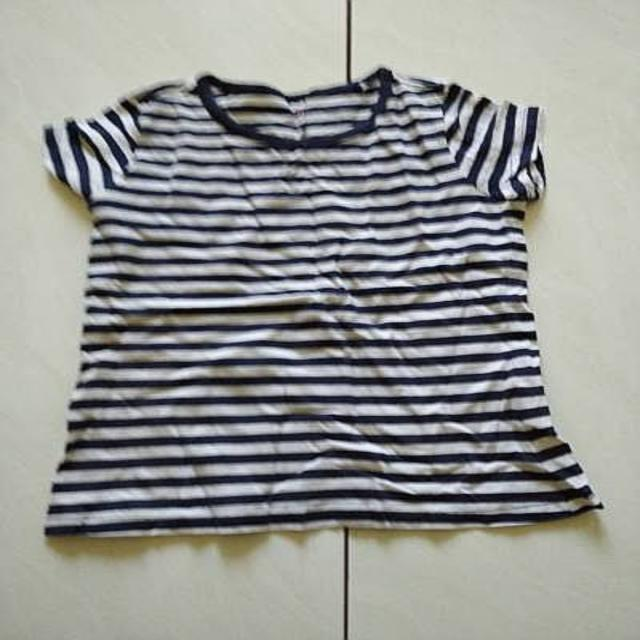T_SHIRT: (36, 61, 610, 550)
